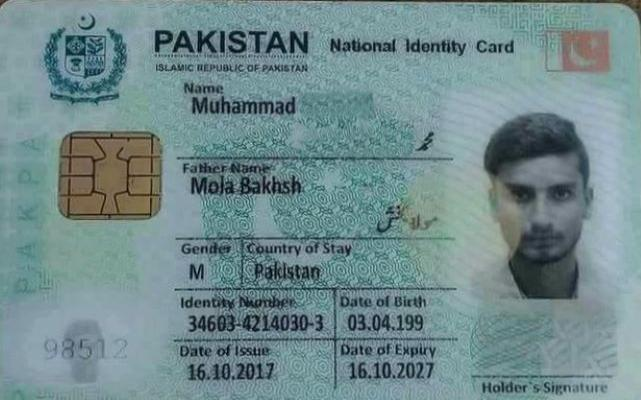fname: (184, 174, 305, 200)
name: (187, 92, 300, 118)
number: (184, 310, 327, 336)
